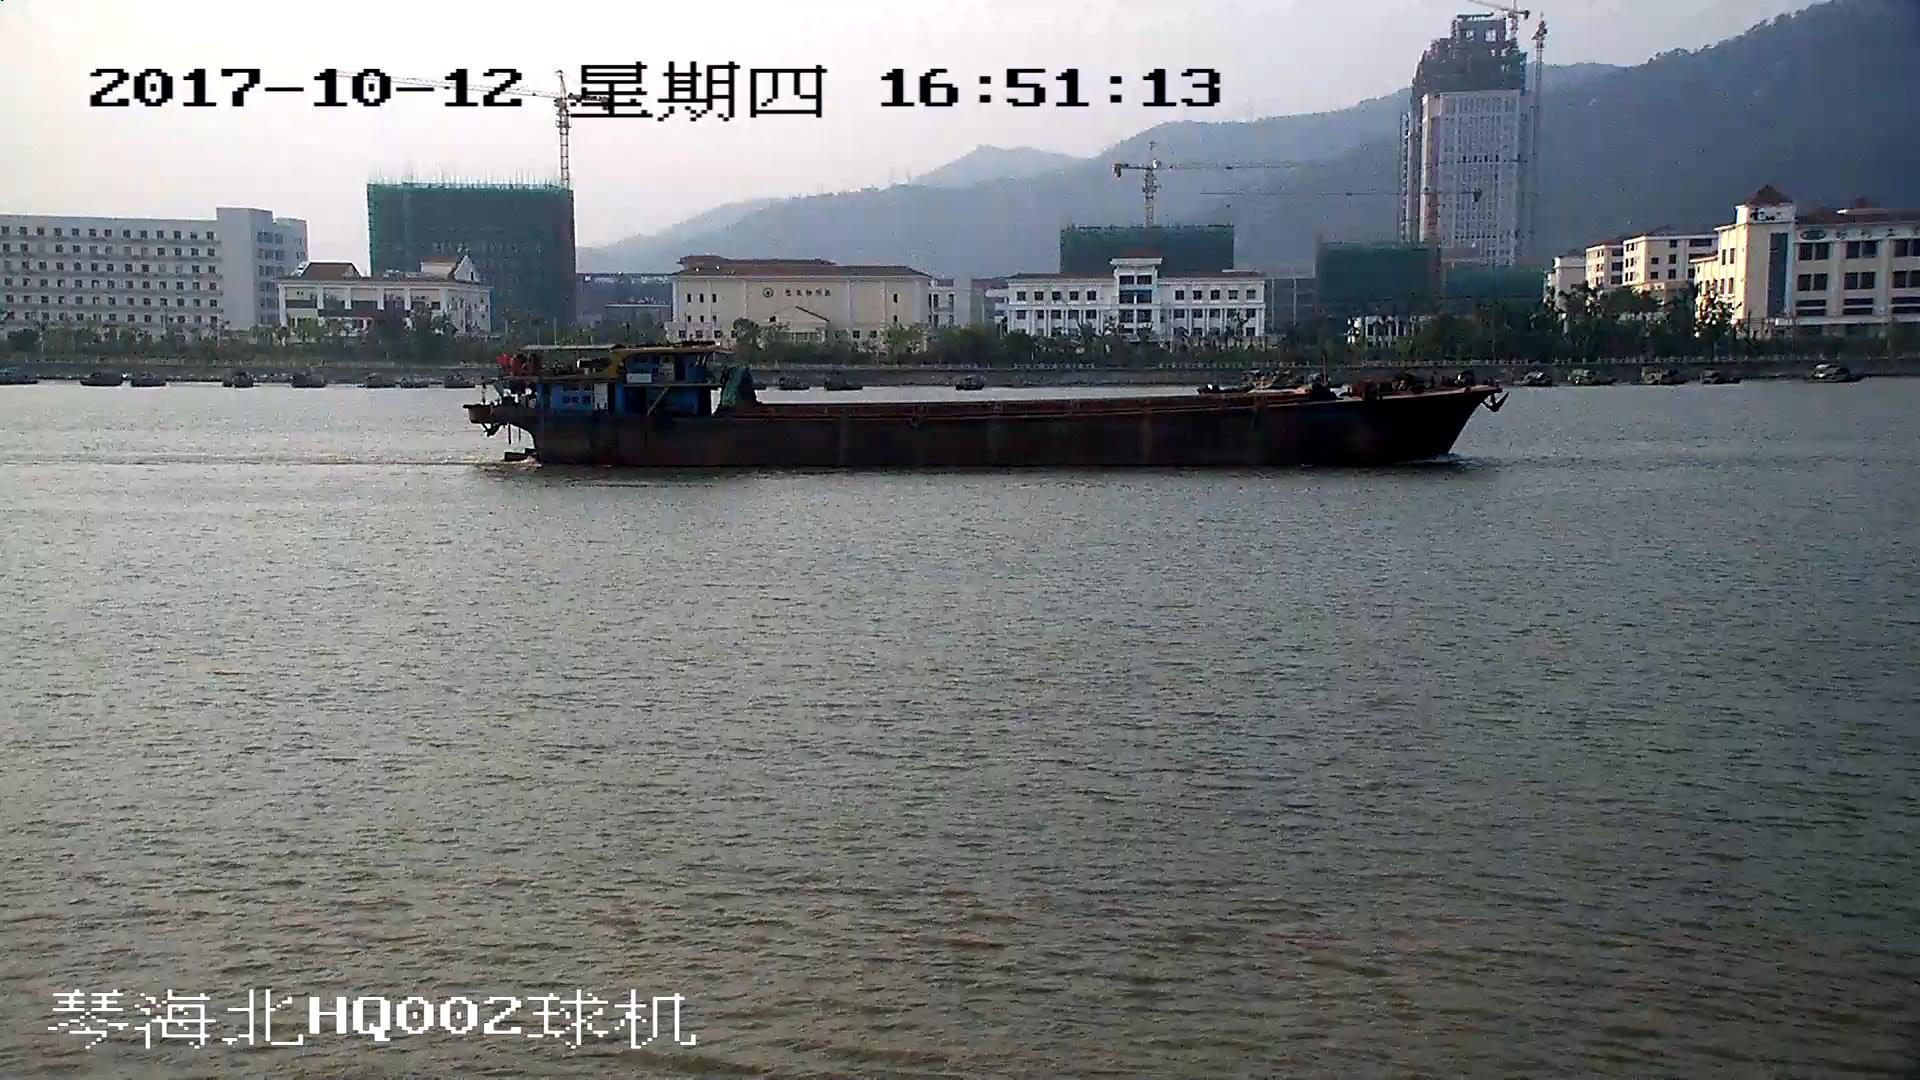bulk cargo carrier: (469, 339, 1506, 477)
